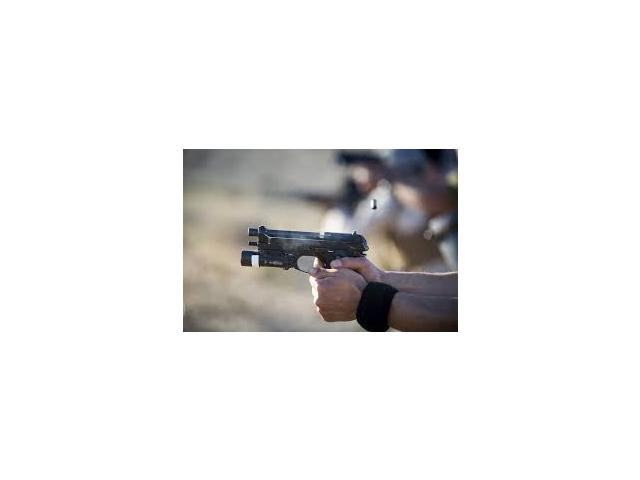pistol: (234, 225, 368, 325)
